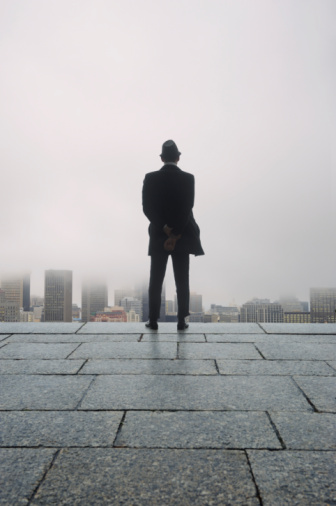em pe: (137, 137, 205, 338)
